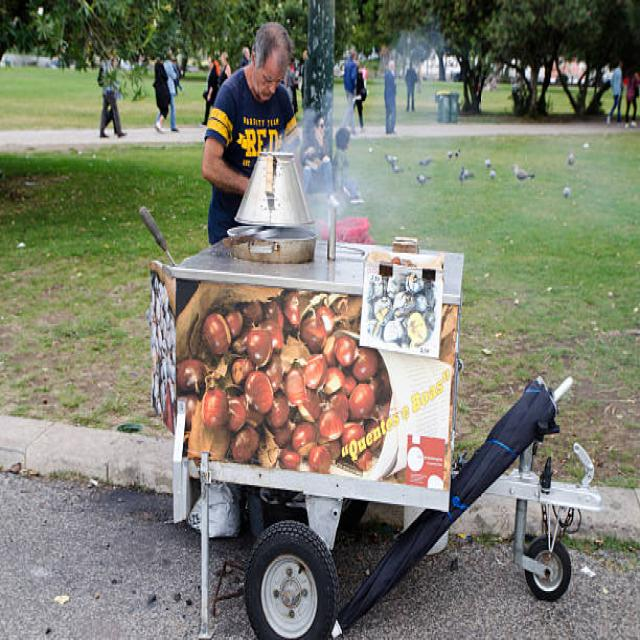Emperan: (126, 29, 600, 640)
